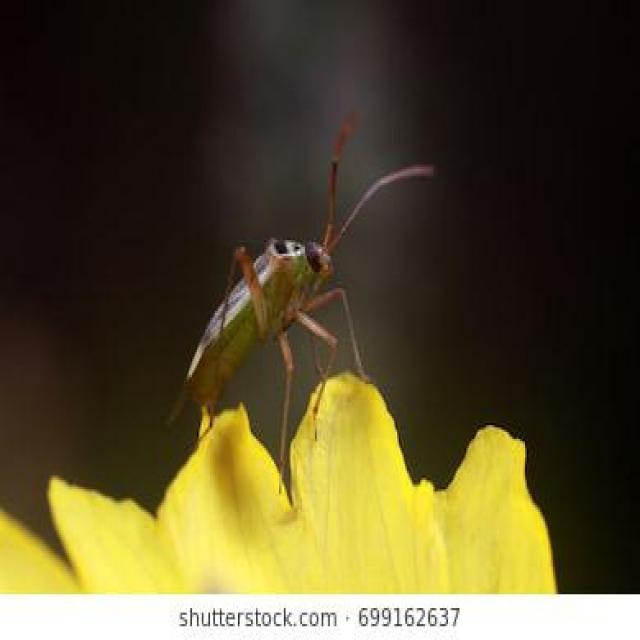Miridae-Adult-: (173, 124, 443, 471)
